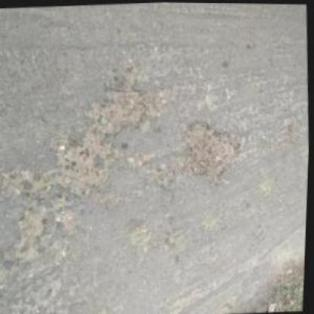Hueco: (52, 135, 122, 202), (179, 117, 243, 189), (86, 83, 151, 138)
